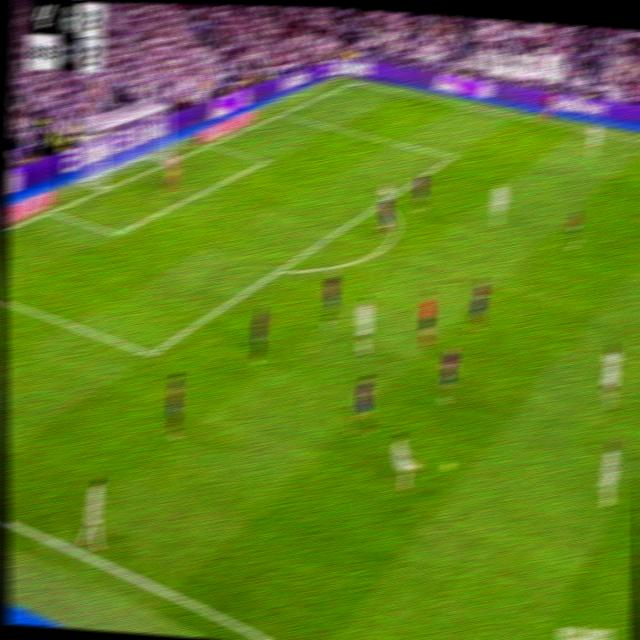bigarea_bottom_inner: (143, 342, 160, 367)
bigarea_top_inner: (445, 148, 457, 165)
bigarea_top_outter: (277, 106, 288, 118)
bottom_arc_area_intersection: (272, 259, 289, 280)
corner: (348, 77, 361, 87)
smallarea_bottom_outter: (46, 203, 59, 218)
smallarea_top_inner: (259, 154, 269, 166)
